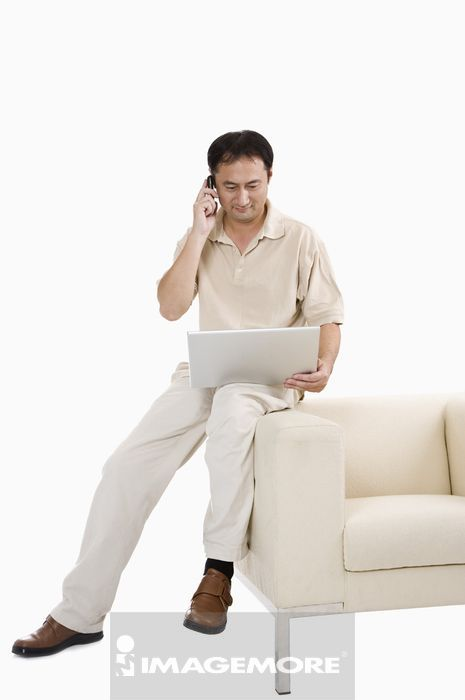talk: (193, 169, 263, 236)
